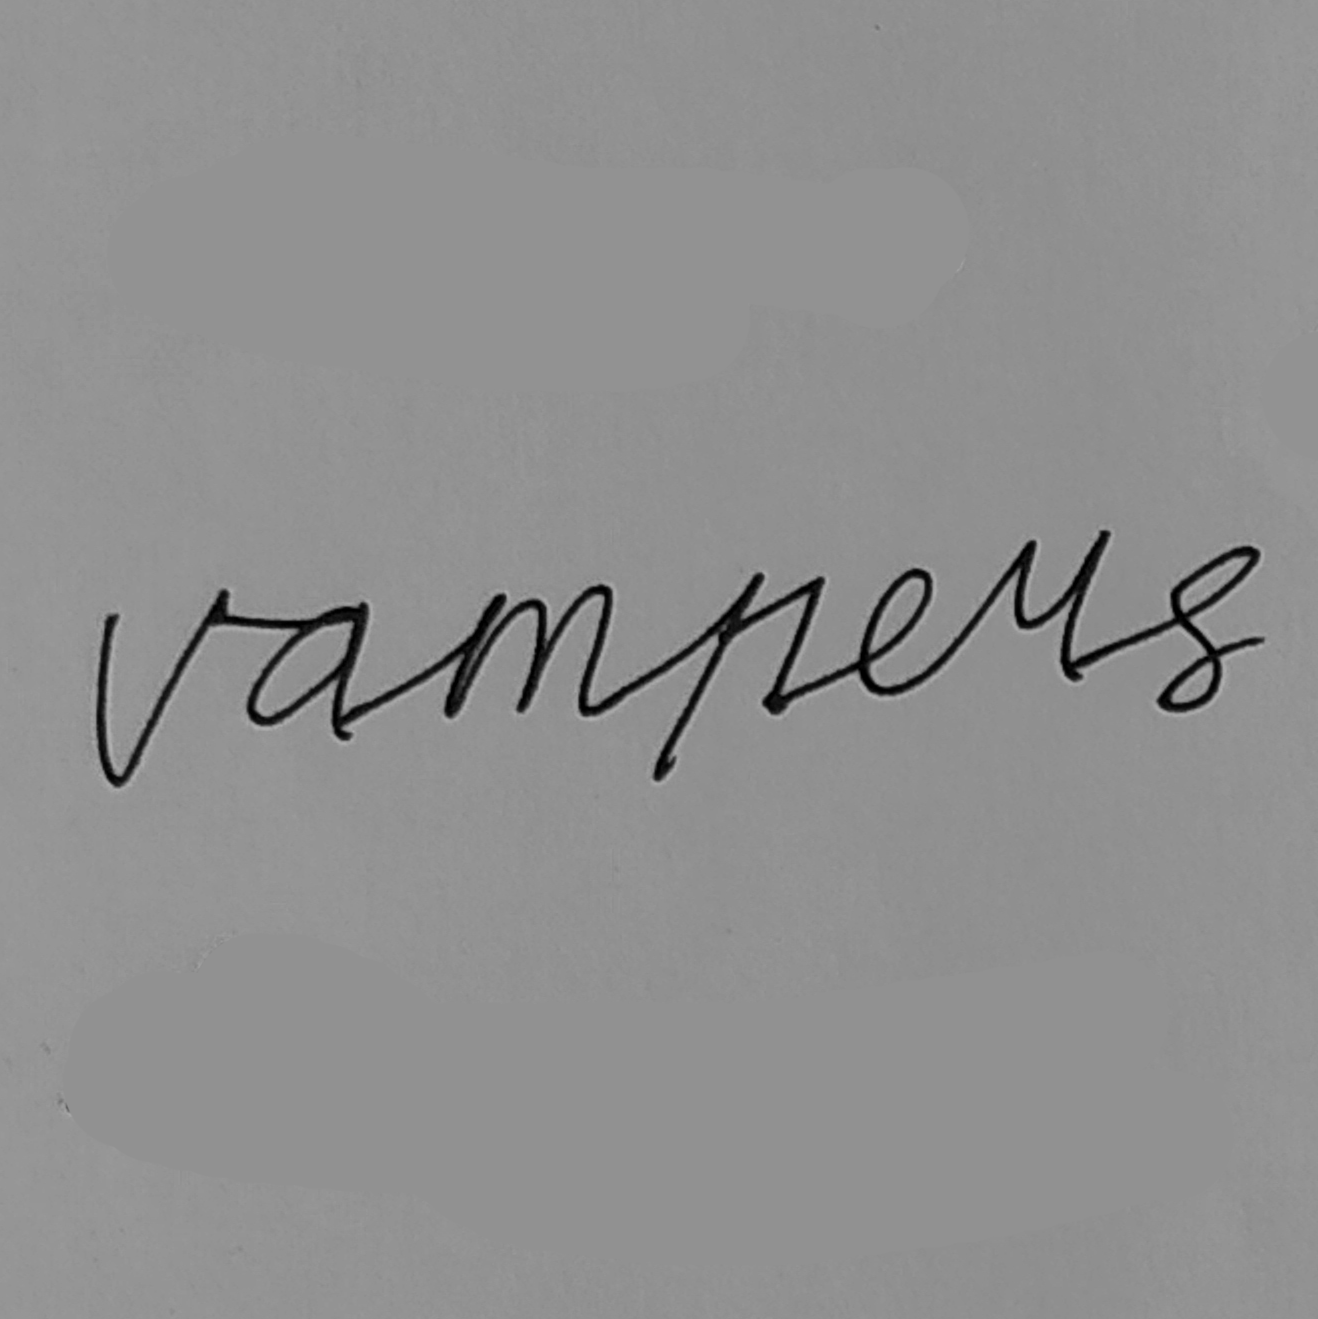a: (243, 599, 374, 746)
e: (855, 564, 938, 702)
m: (441, 578, 618, 725)
p: (649, 570, 829, 784)
r: (970, 525, 1113, 689)
s: (1147, 542, 1267, 718)
v: (91, 601, 215, 790)
